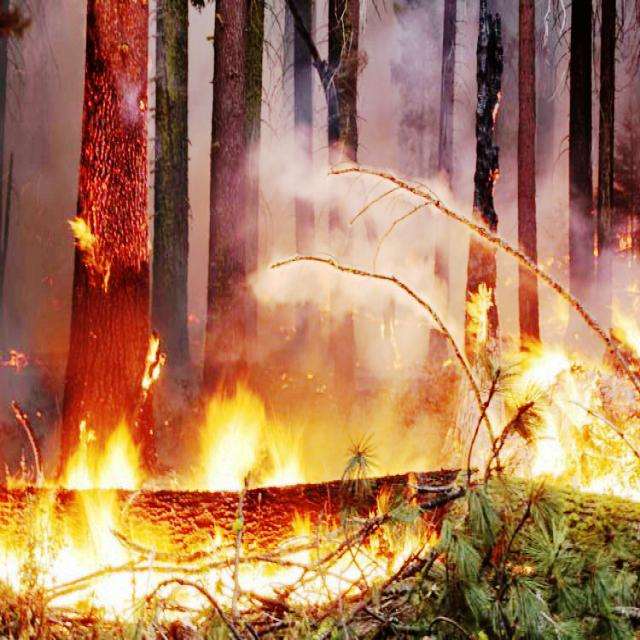api: (1, 460, 469, 623), (501, 326, 640, 523), (169, 375, 333, 541), (45, 396, 160, 513), (52, 201, 118, 299), (458, 275, 497, 355), (610, 288, 640, 370)
asap: (237, 121, 476, 241), (241, 222, 453, 340)
